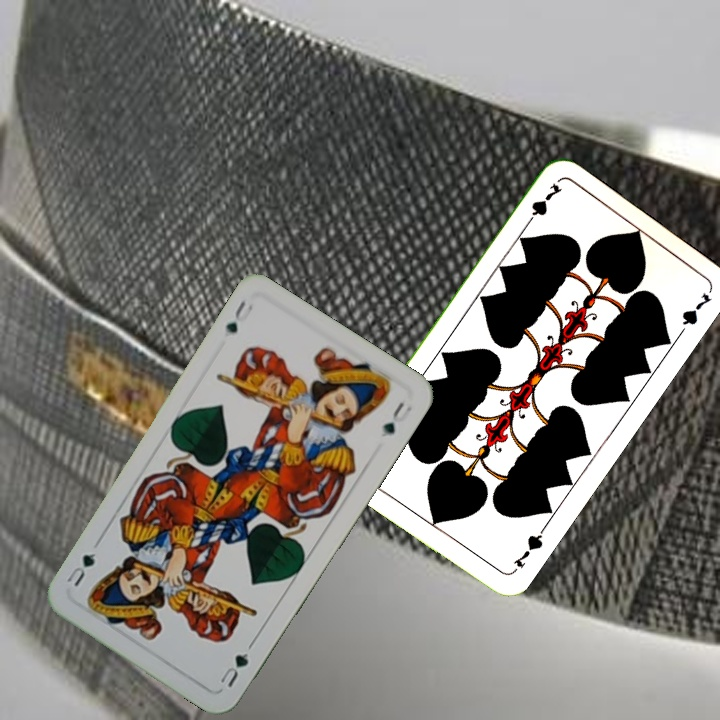G7: (520, 178, 565, 230), (509, 524, 548, 571)
GU: (216, 639, 256, 690), (221, 296, 256, 336)
